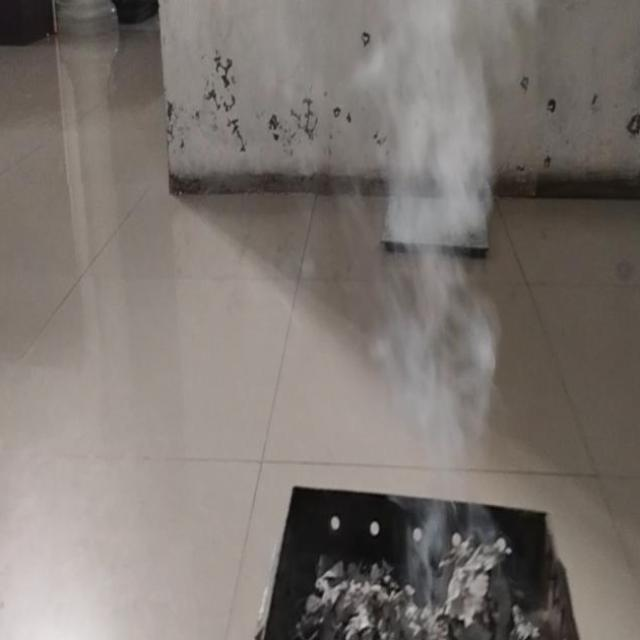fire: (369, 0, 504, 463)
